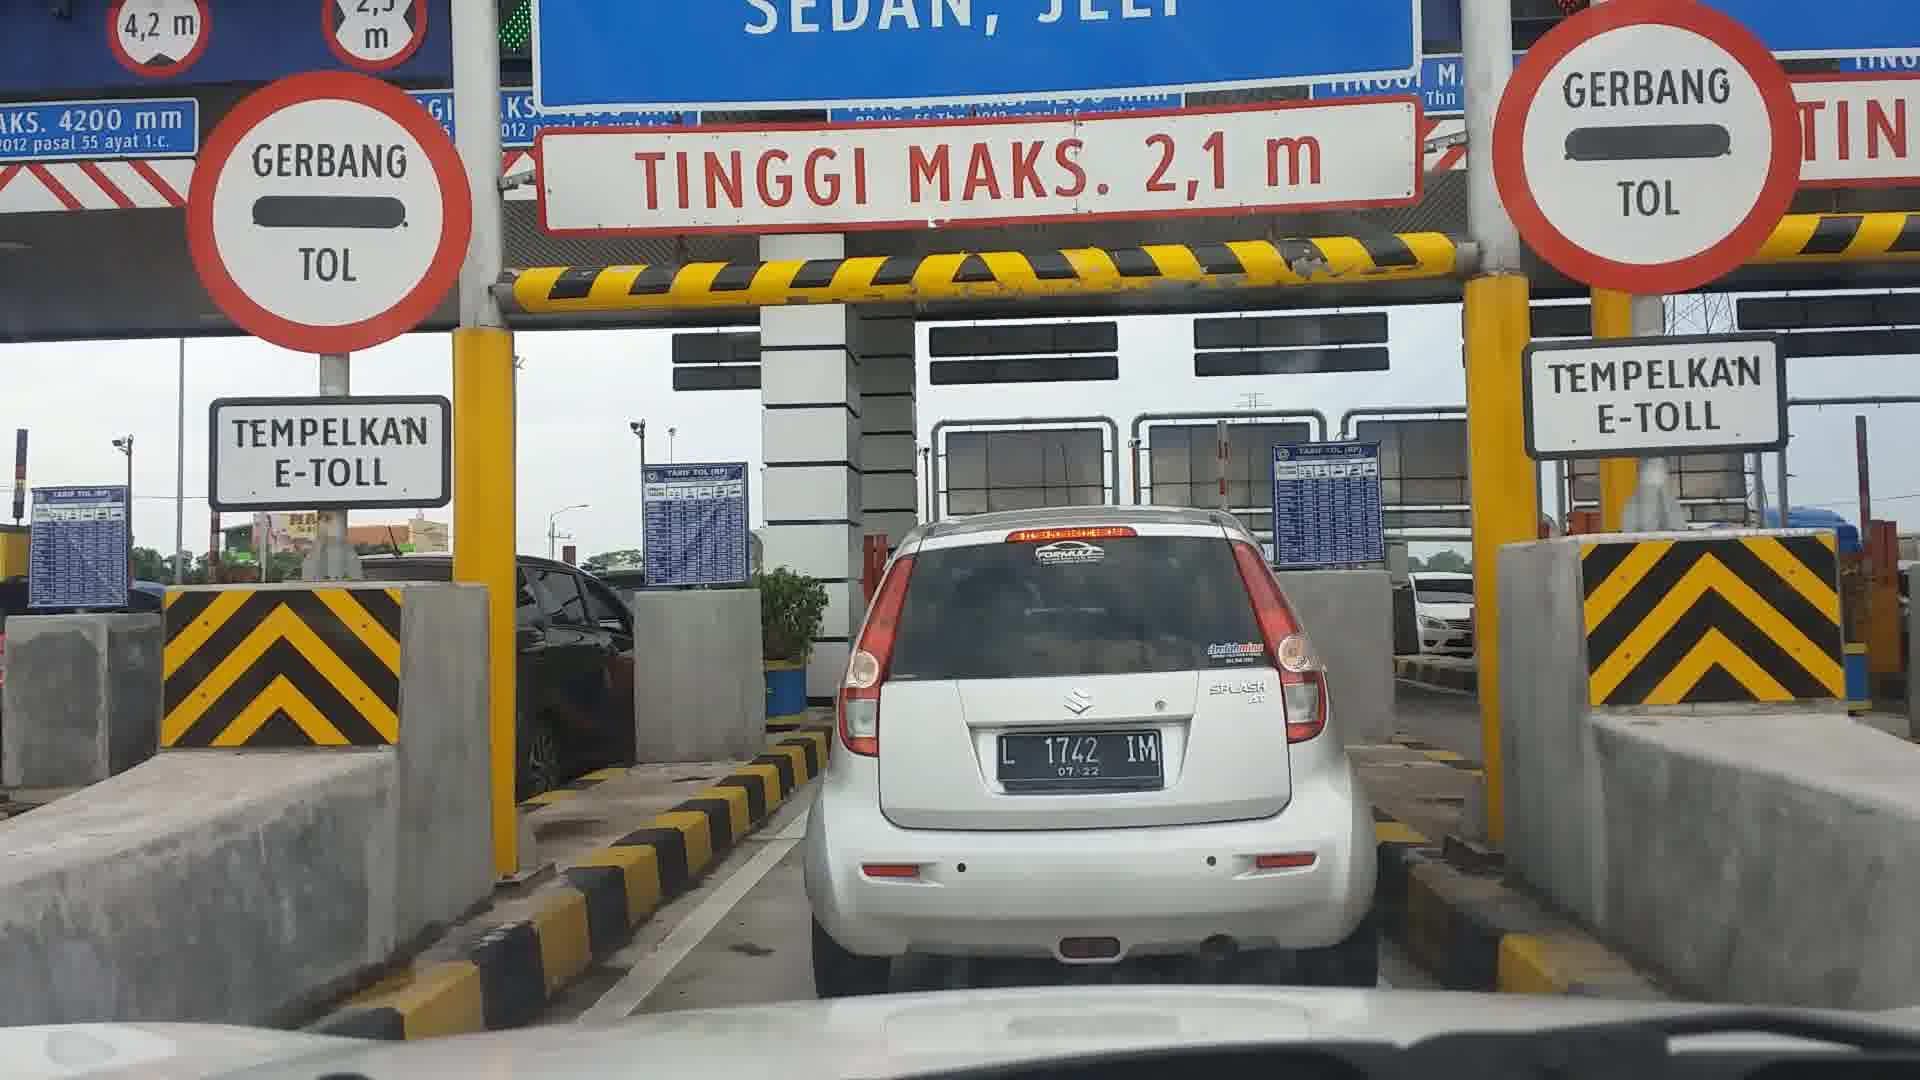plate_positive: (996, 729, 1164, 793)
